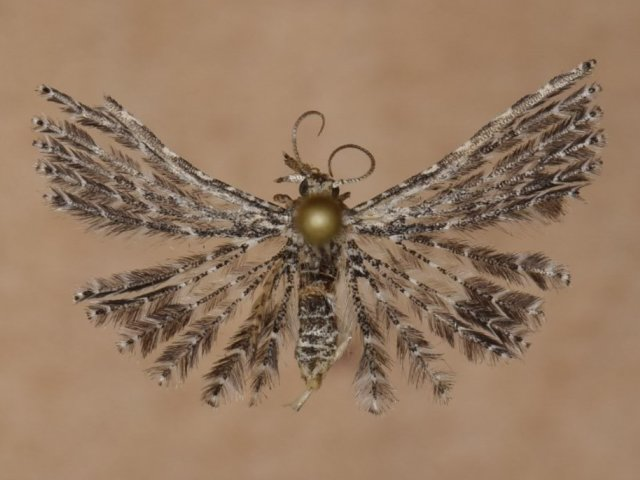Alucitidae: (24, 55, 604, 415)
moth: (22, 53, 602, 413)
